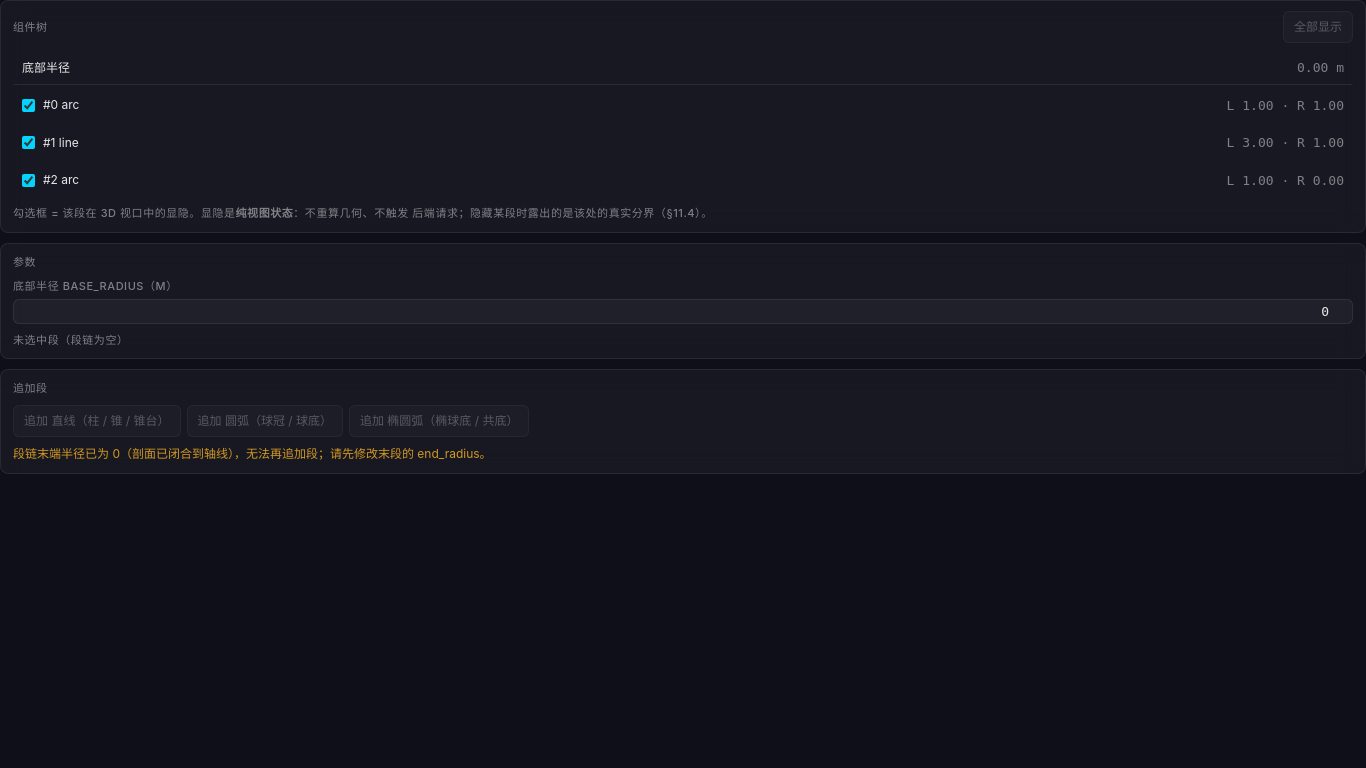
Test case: M5 六曲线族：下拉与各族参数字段（§5.2 / §5.3） › 幂律：渲染指数 n 字段（追加默认 n=1.5）
Click the button "#1 line L 3.00 · R 1.00". click: coordinates (61, 142)
box: [43, 133, 1344, 152]
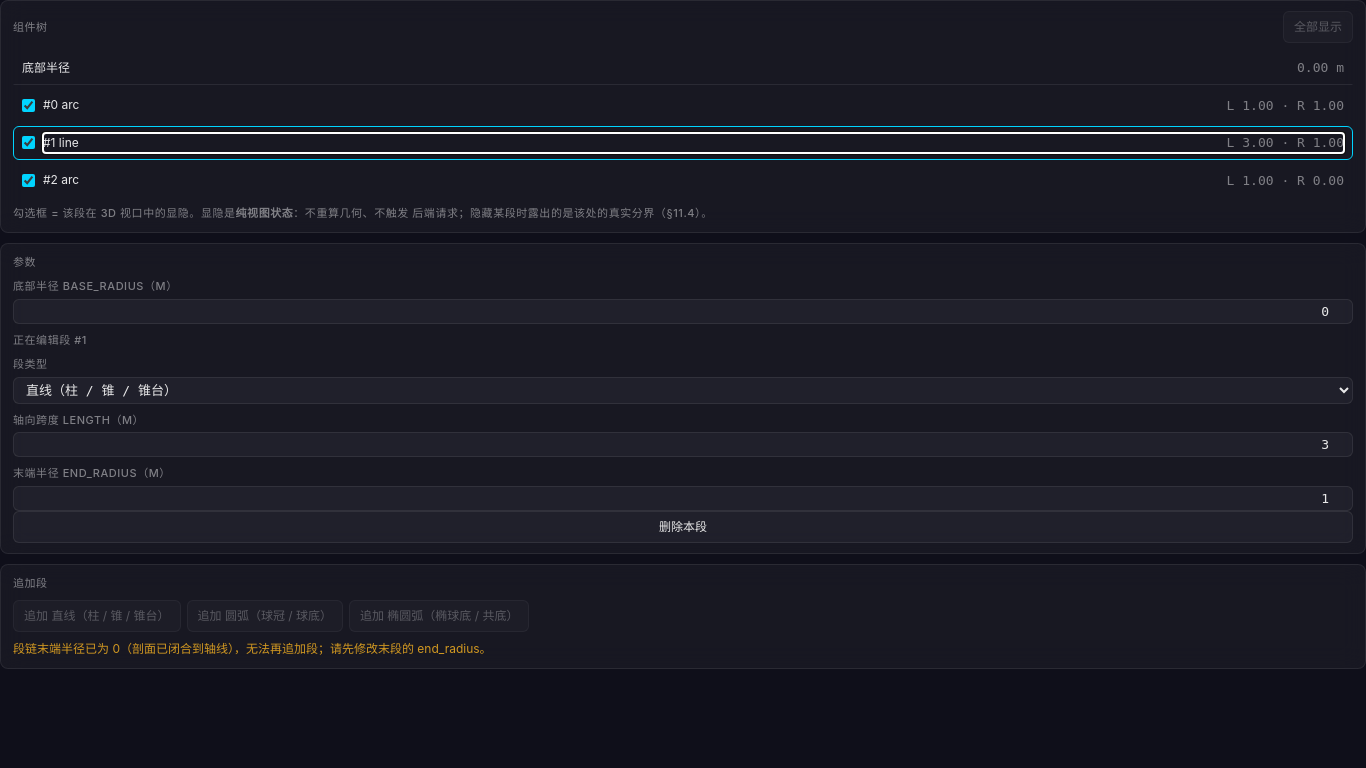
Select "幂律（通用过渡）" in the dropdown labelled "段类型". click: coordinates (683, 390)
box: [13, 376, 1353, 404]
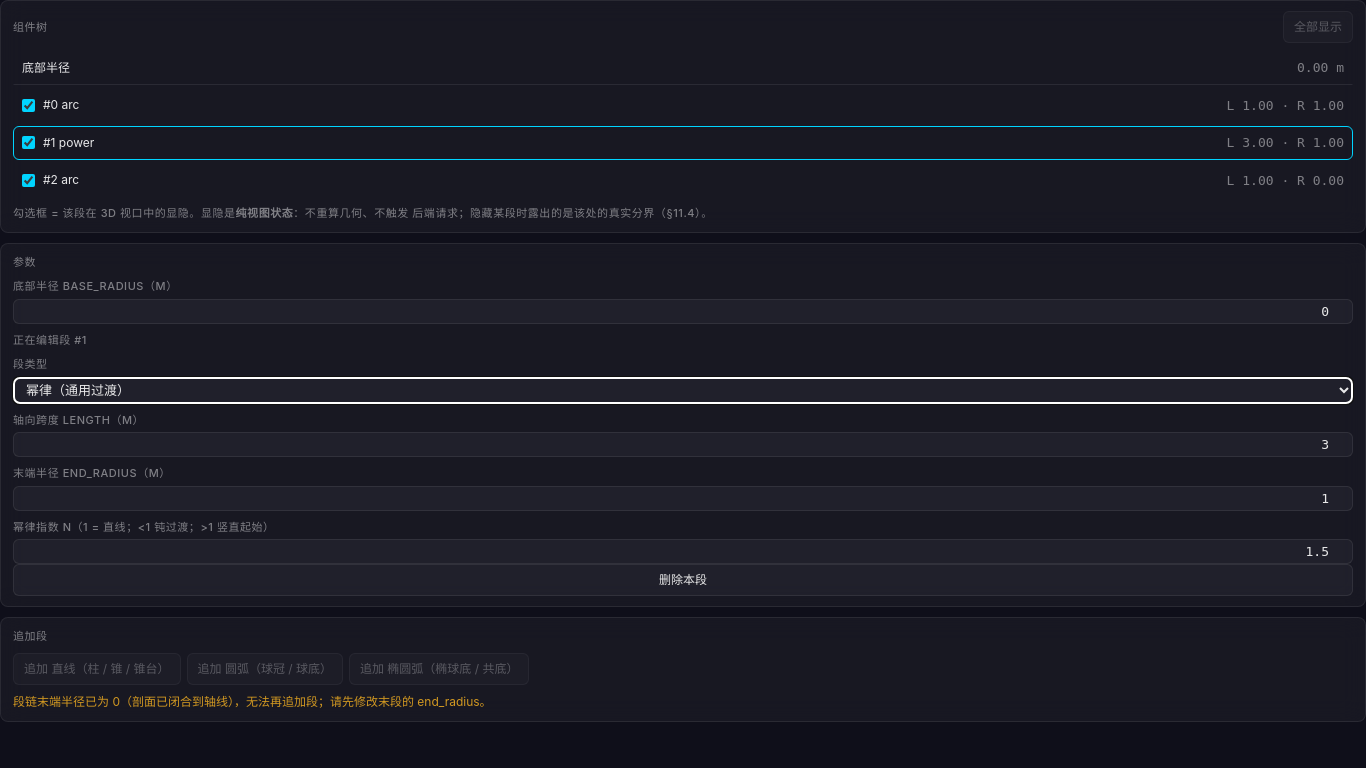
Expected: the number field labelled "幂律指数 n（1 = 直线；<1 钝过渡；>1 竖直起始）" holds "1.5", [13, 539, 1353, 564]
